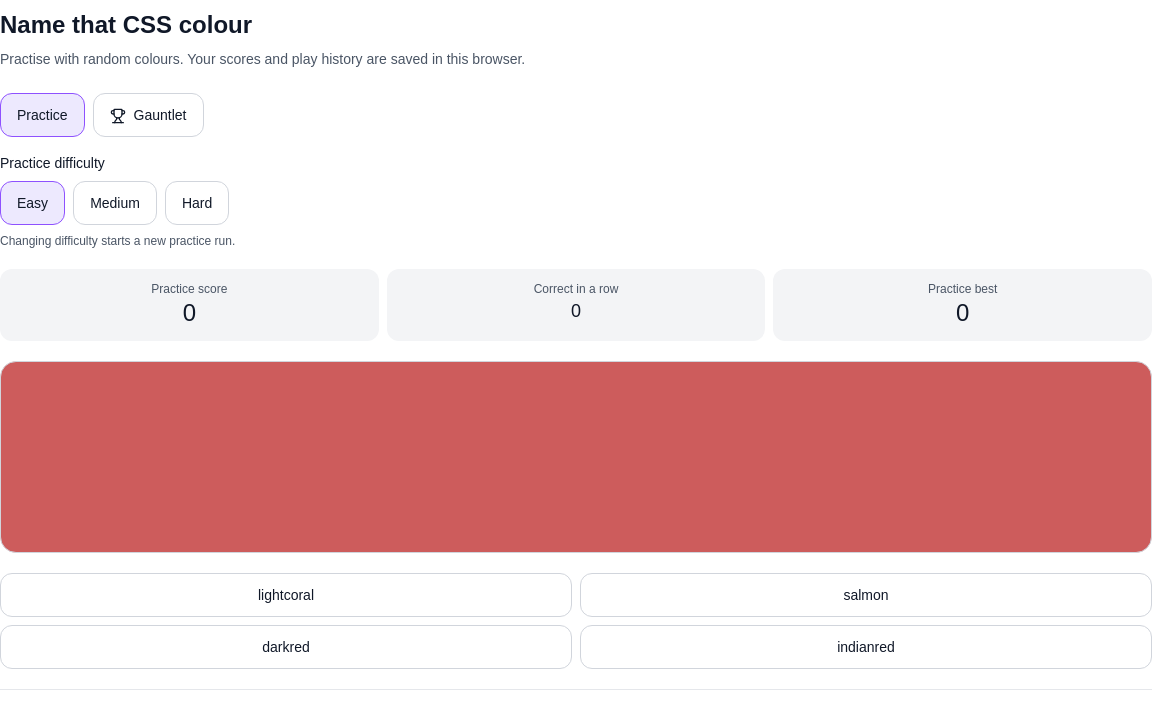
Test case: reset asks inline before clearing the practice best and keeps play history
What coordinates should you click on to do the following:
click the button "indianred"
I would click on:
 (866, 647)
Its box is 580,625 -> 1151,669.
(page scrolled)
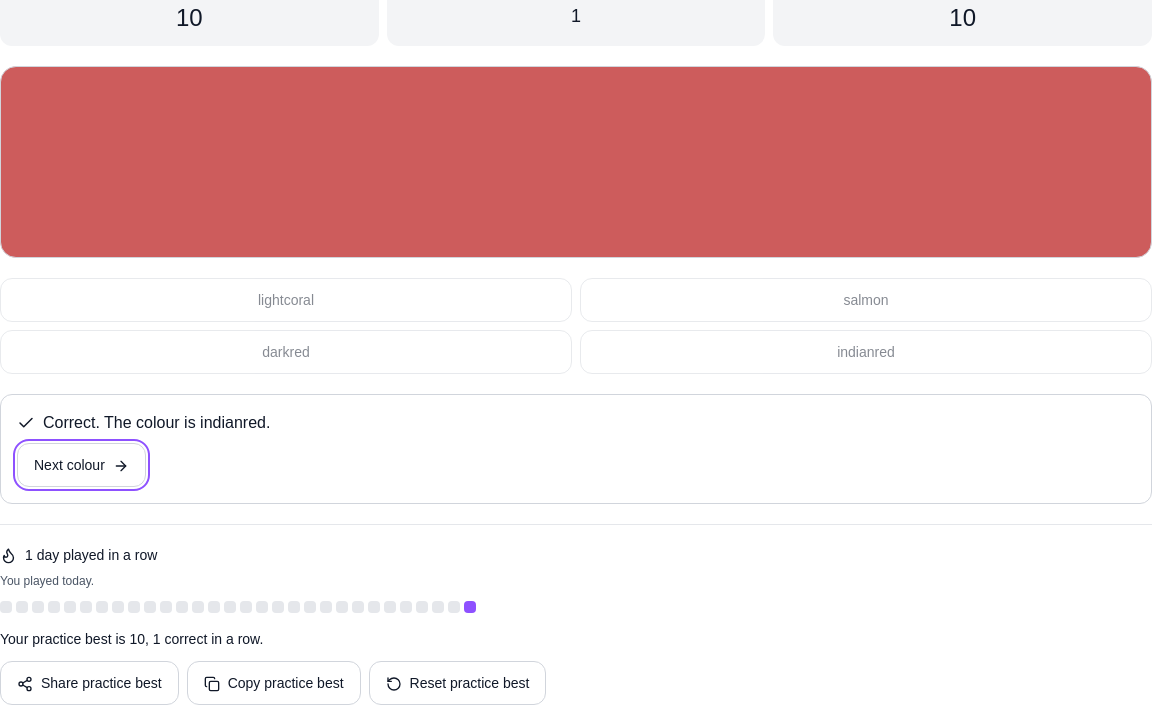
What coordinates should you click on to do the following:
click the button "Reset practice best"
I would click on:
 (458, 683)
Its box is 369,661 -> 546,704.
(page scrolled)
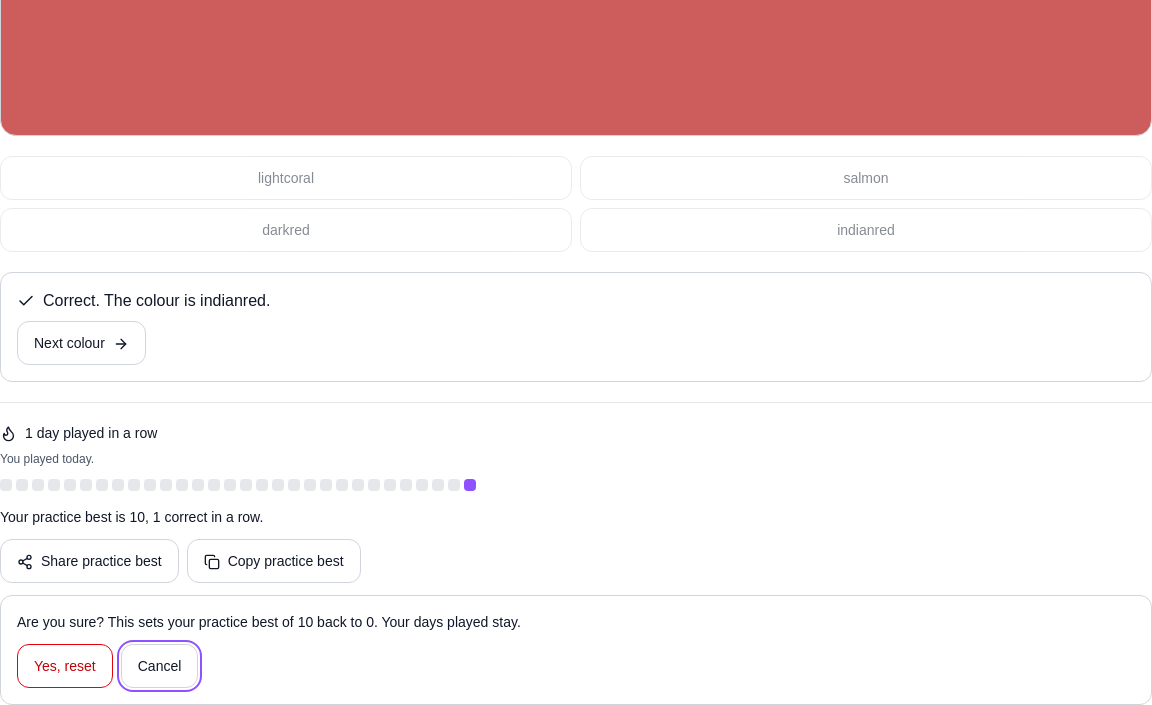
Expected: the text "Are you sure?" is shown, 17,614 -> 298,630
What coordinates should you click on to do the following:
click the button "Cancel"
I would click on:
 (160, 666)
Its box is 121,644 -> 198,688.
(page scrolled)
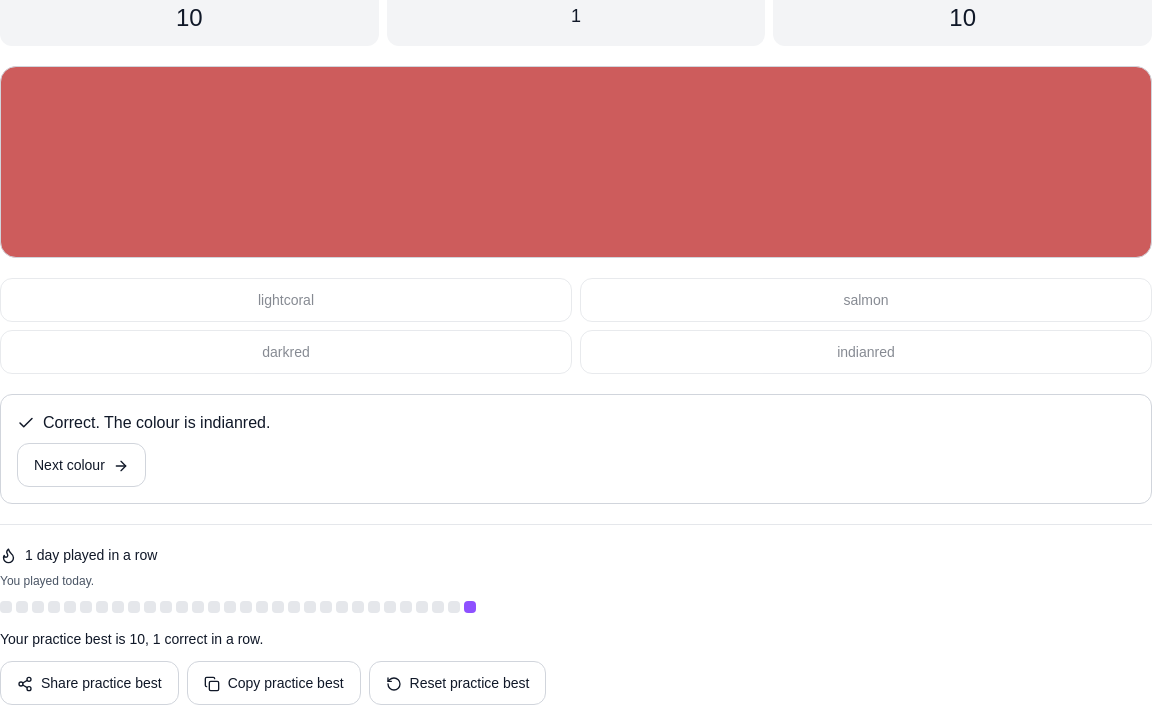
What coordinates should you click on to do the following:
click the button "Reset practice best"
I would click on:
 (458, 683)
Its box is 369,661 -> 546,704.
(page scrolled)
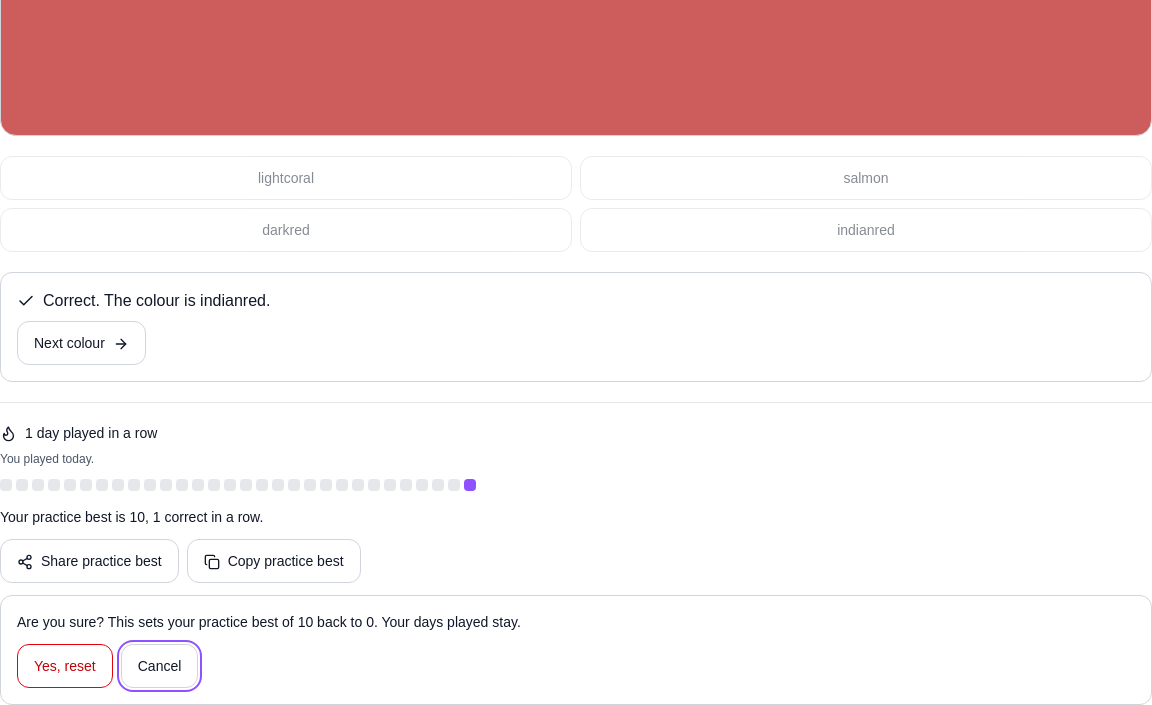
What coordinates should you click on to do the following:
click the button "Yes, reset"
I would click on:
 (65, 666)
Its box is 17,644 -> 113,688.
(page scrolled)
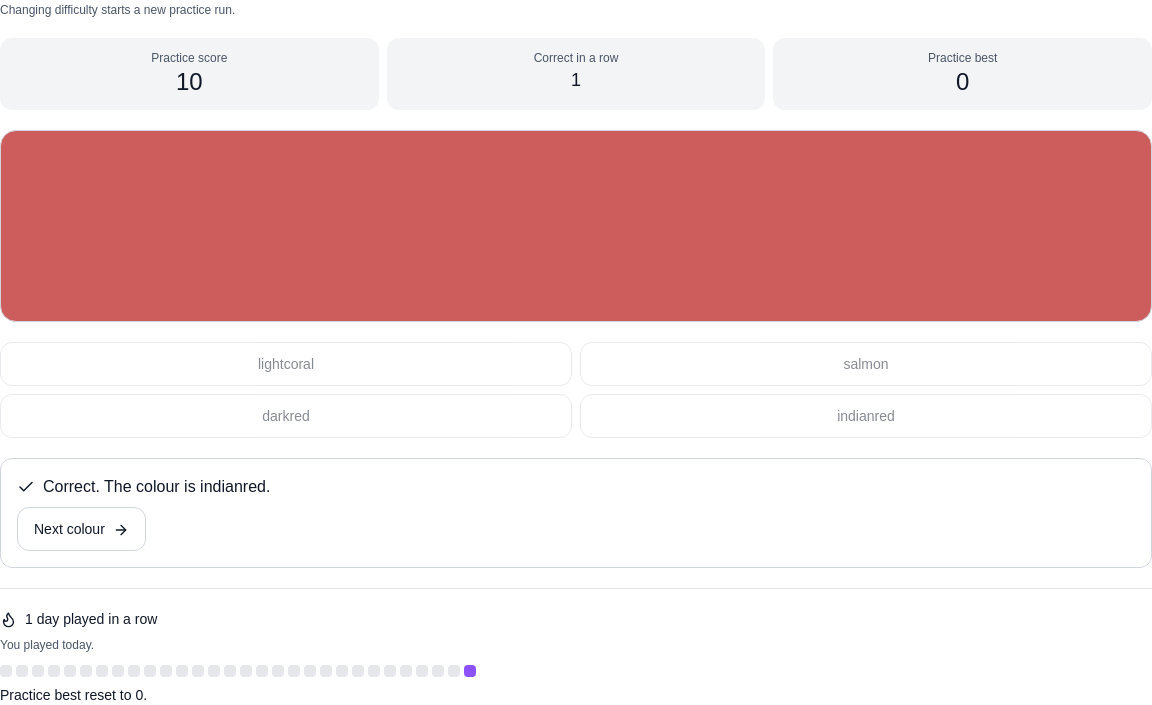
Expected: the button "Share practice best" is gone
Expected: the text "Practice best reset to 0." is shown, 0,687 -> 147,703
